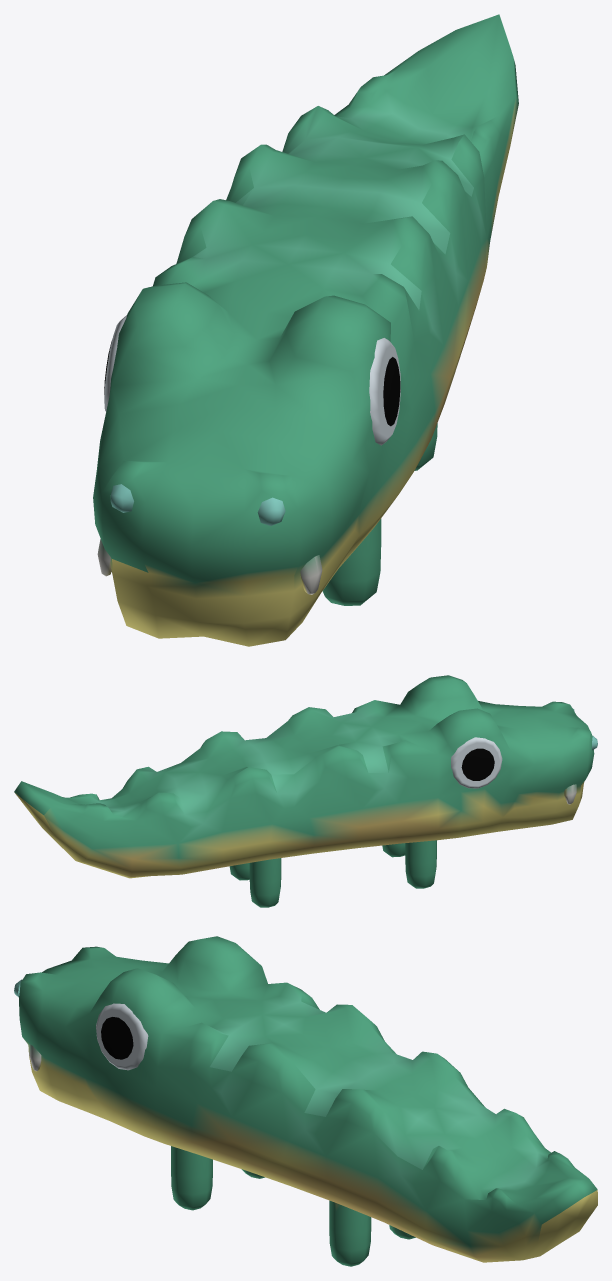
The model's file is Crocodile.glb.
The picture shows the model from 3 angles, top to bottom: view 1: azimuth 30°, elevation 25°; view 2: azimuth 150°, elevation 25°; view 3: azimuth 270°, elevation 25°; orthographic projection. The views are drawn at different scales.
Visible parts, largest first — view 1: 35; view 2: 35; view 3: 35.
Boxes of the visible parts, x1=… form: 35: x1=93, y1=14, x2=518, y2=646; 35: x1=14, y1=675, x2=597, y2=907; 35: x1=14, y1=936, x2=597, y2=1266.
Size of the model in its own units: 1.37 by 0.5688 by 1.4.
